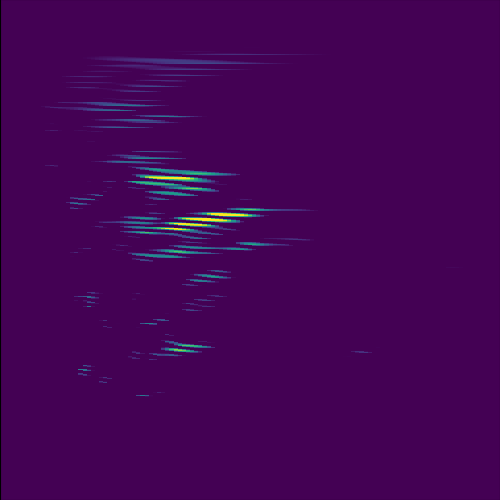semblance: (154, 204, 273, 235), (129, 166, 227, 197)
